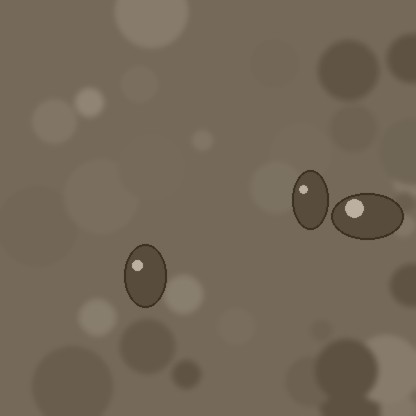gota: (331, 195, 403, 243), (124, 246, 166, 312), (292, 172, 328, 234)
